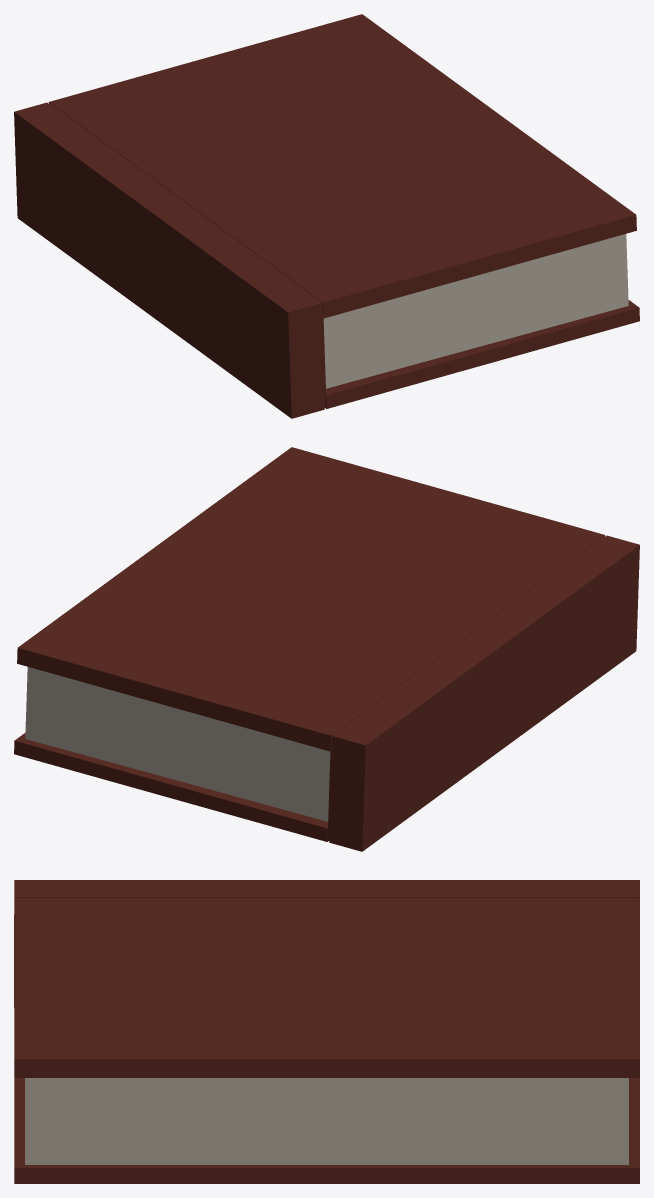
Rendered from Libroproto2.fbx.
3 renders of one model, top to bottom at view 1: azimuth 30°, elevation 25°; view 2: azimuth 150°, elevation 25°; view 3: azimuth 270°, elevation 25°, orthographic. The views are drawn at different scales.
Parts seen in each view (by area): view 1: Cube, Cube.001; view 2: Cube, Cube.001; view 3: Cube, Cube.001.
Boxes of the visible parts, x1,y1,x2,y2 form: Cube: [14, 14, 639, 418]; Cube.001: [323, 234, 628, 388]; Cube: [14, 447, 639, 851]; Cube.001: [25, 667, 330, 821]; Cube: [14, 880, 639, 1183]; Cube.001: [25, 1078, 628, 1164].
Size of the model in its own units: 564 by 184 by 762.
